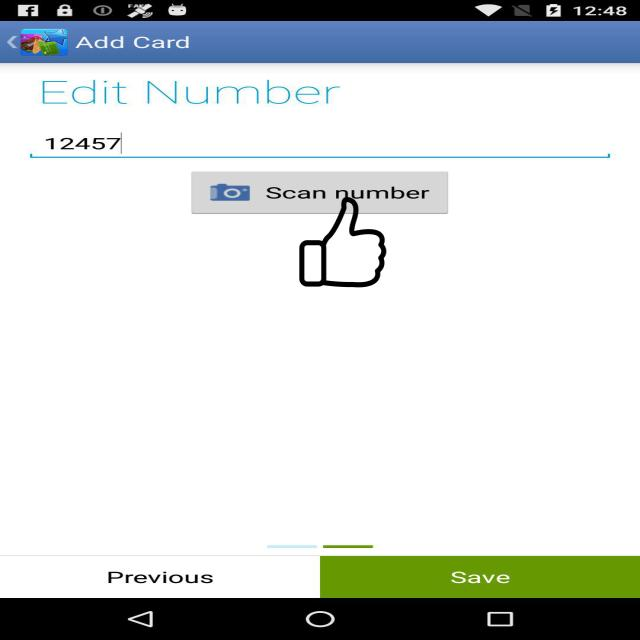privacy zuckering: (298, 197, 388, 287)
